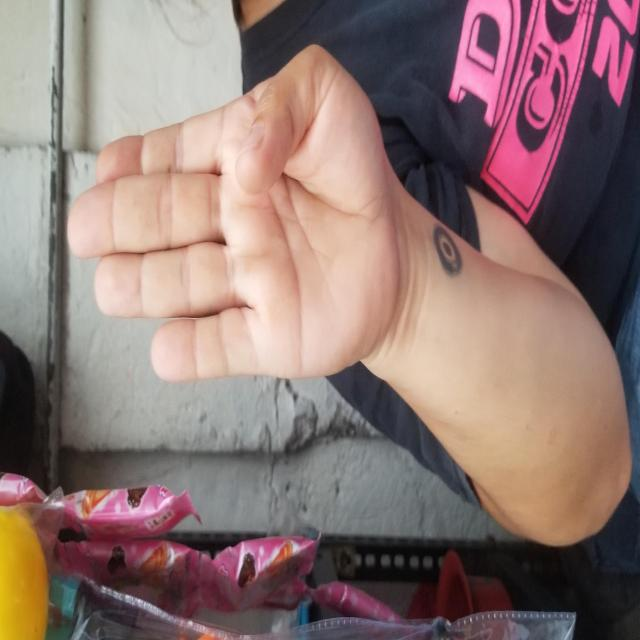B: (255, 67, 598, 390)
